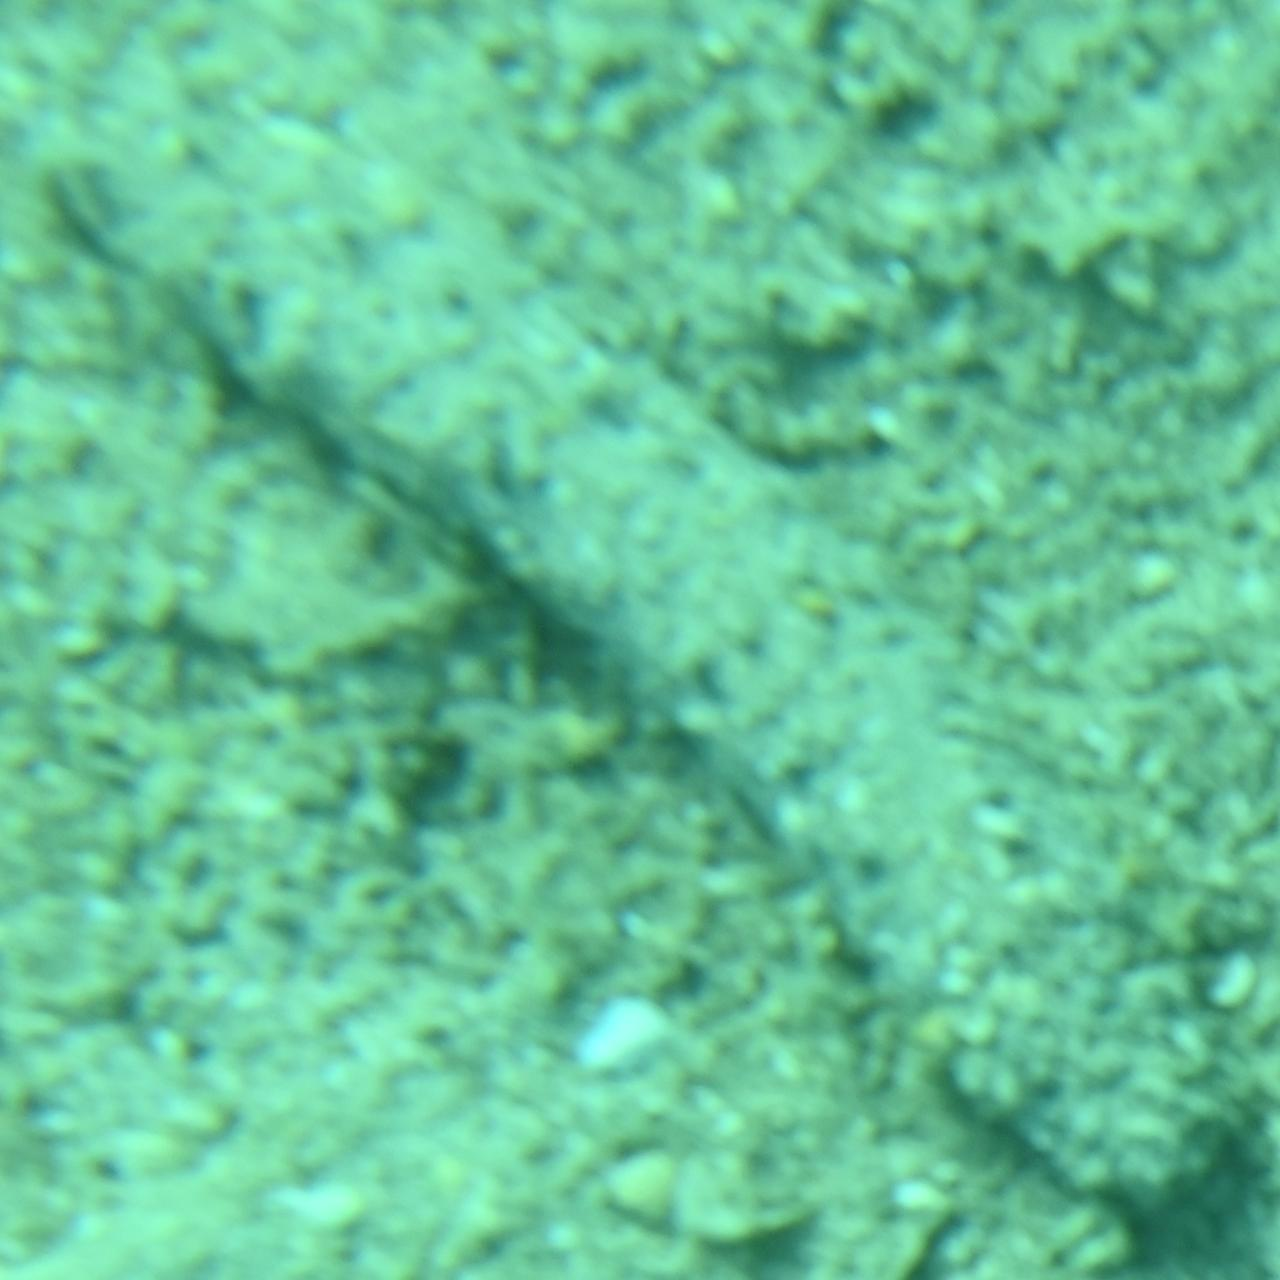Holothuria tubulosa: (4, 35, 1276, 1245)
